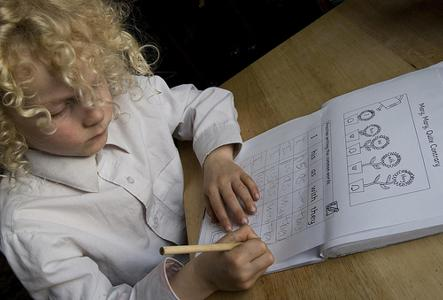person: (2, 2, 275, 300)
